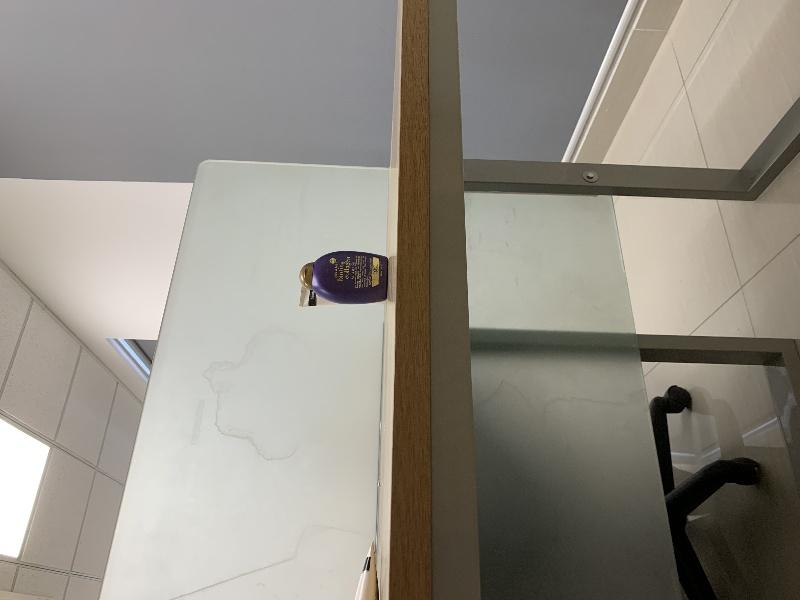BiotinCollagen_Shampoo: (299, 251, 388, 304)
